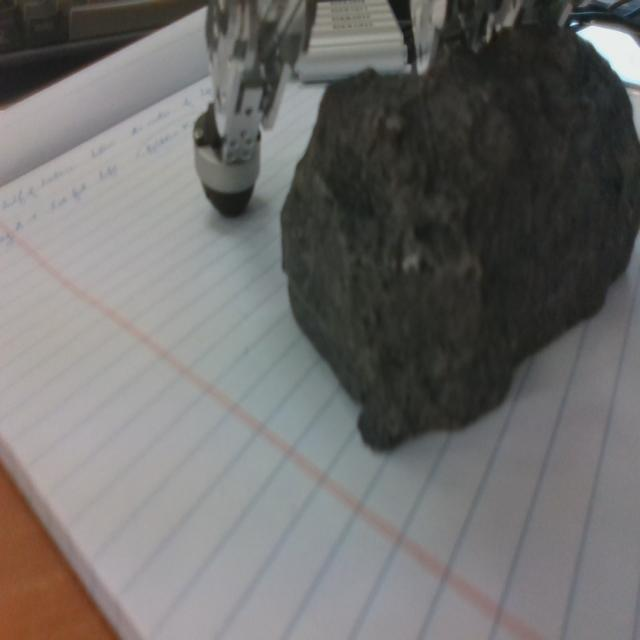stone: (279, 28, 640, 453)
